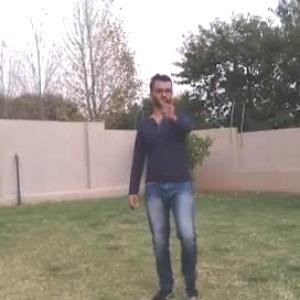takeoff-hand: (154, 89, 182, 125)
